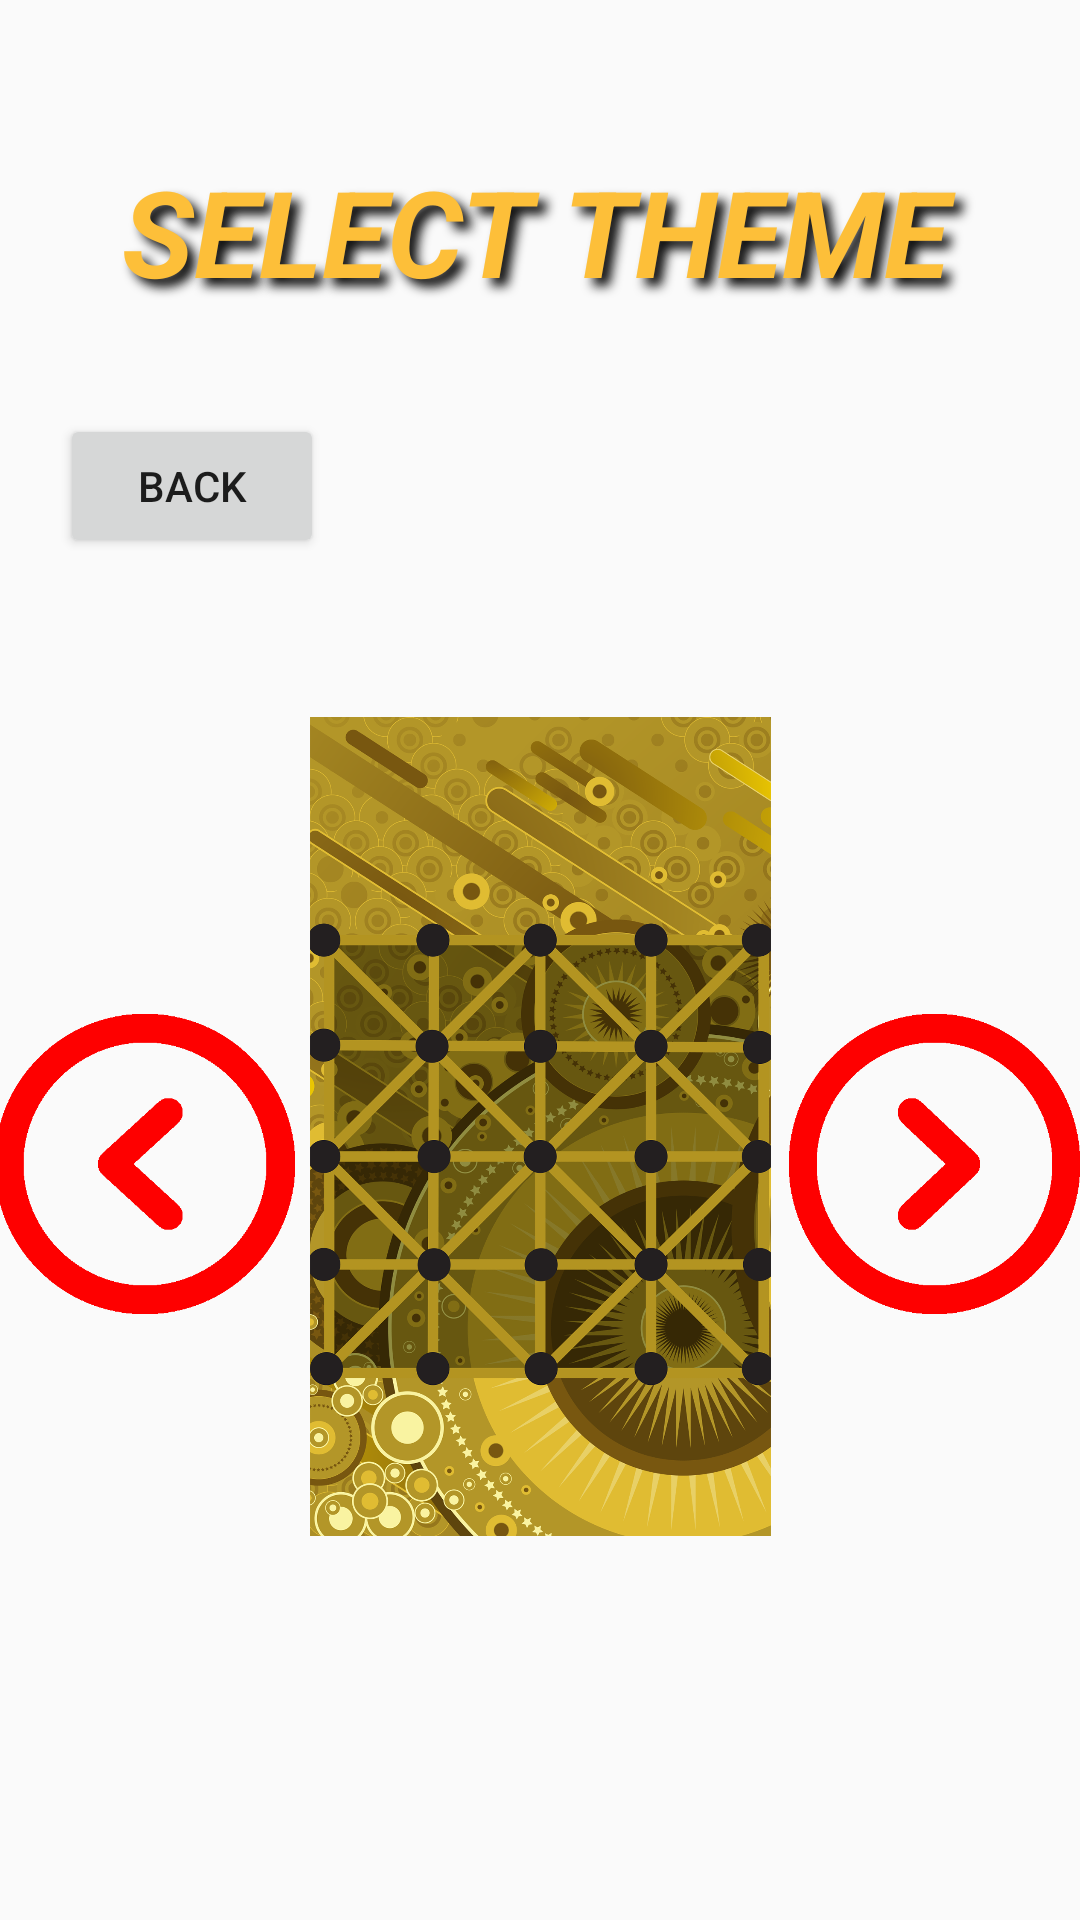

Named icons in this screenshot (1080x1920) and their centers, [x,y]:
next: [934,1164]
pre: [147,1164]
